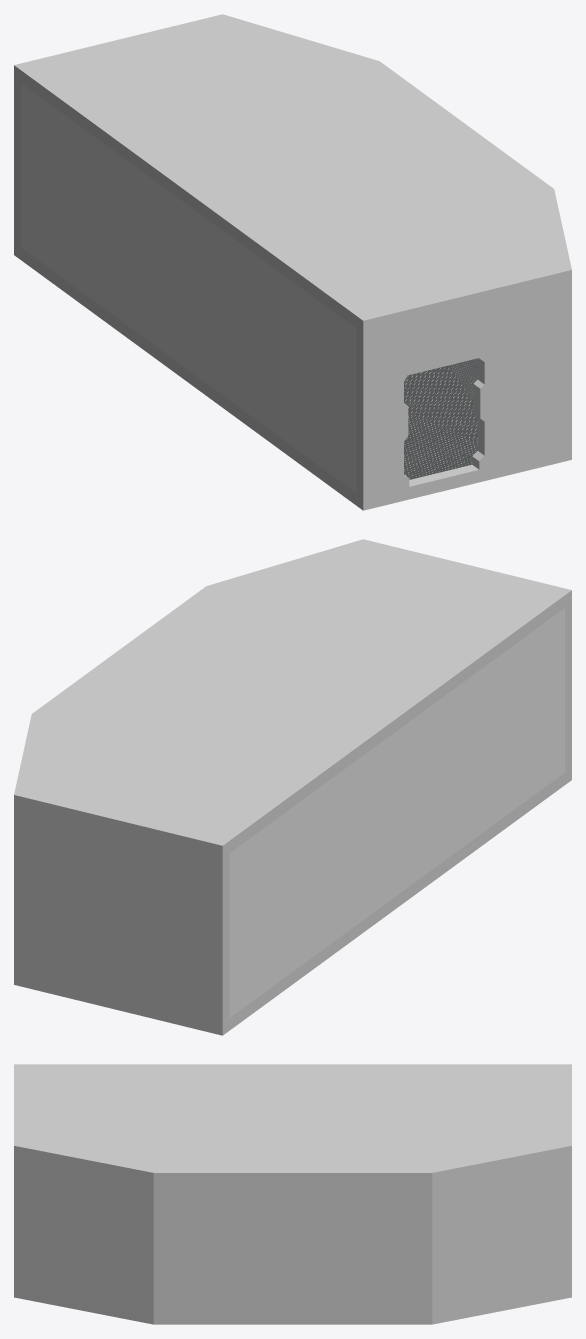
File: storage3.glb
3 views of the same model, one above another, from view 1: azimuth 30°, elevation 25°; view 2: azimuth 150°, elevation 25°; view 3: azimuth 270°, elevation 25° (orthographic). The views are drawn at different scales.
Visible parts, largest first — view 1: Cube.002; view 2: Cube.002; view 3: Cube.002.
Part boxes in pixels (x1=…): Cube.002: x1=14, y1=14, x2=571, y2=510; Cube.002: x1=14, y1=539, x2=571, y2=1035; Cube.002: x1=14, y1=1064, x2=571, y2=1324.
Bounding box in the file's own units: 46 × 30 × 100.
2 materials, 1 textured.
